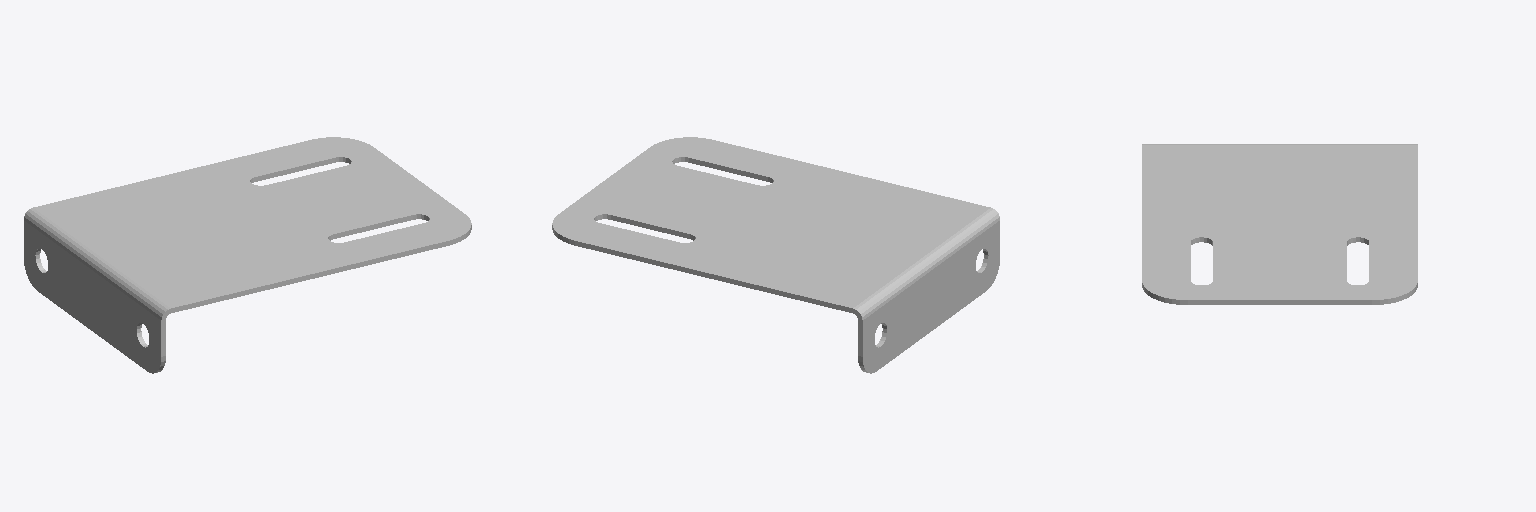
Rendered from wspornik_krotki.obj.
The picture shows the model from 3 angles: view 1: azimuth 30°, elevation 25°; view 2: azimuth 150°, elevation 25°; view 3: azimuth 270°, elevation 25°; orthographic projection.
Parts seen in each view (by area): view 1: Bryła398; view 2: Bryła398; view 3: Bryła398.
Boxes of the visible parts, x1,y1,x2,y2 form: Bryła398: [24, 137, 471, 373]; Bryła398: [552, 137, 999, 373]; Bryła398: [1142, 144, 1417, 304].
Bounding box in the file's own units: 205 × 42.61 × 150.